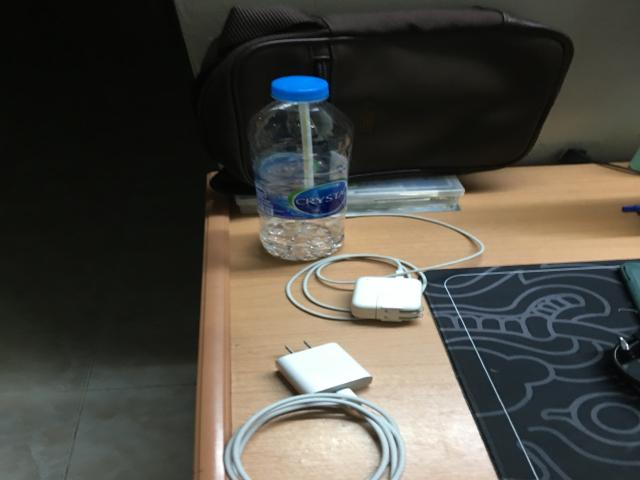Watch: (613, 333, 640, 389)
bottle: (248, 76, 353, 261)
wire: (223, 342, 405, 480), (285, 215, 485, 321)
